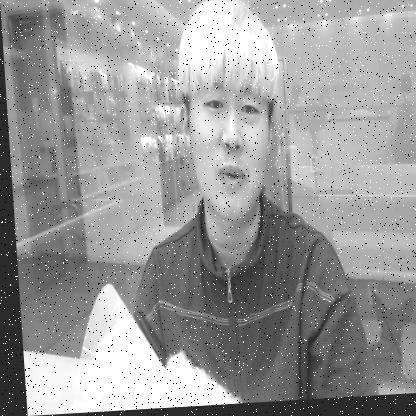streamer: (112, 0, 375, 411)
